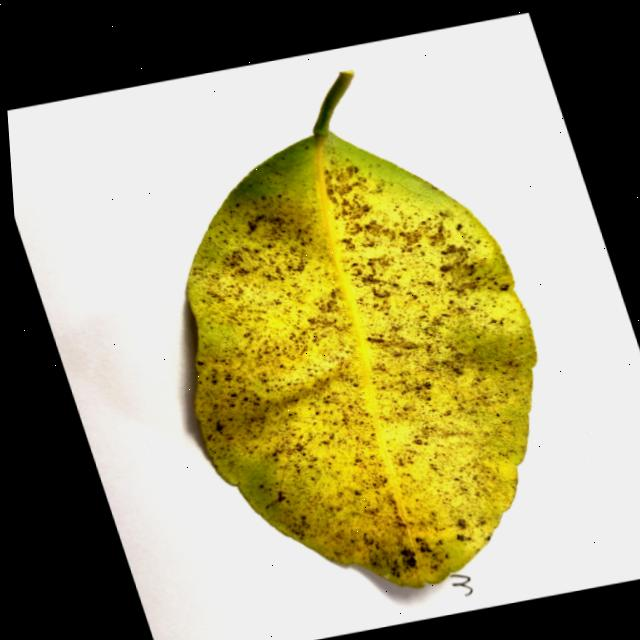melanose: (188, 71, 536, 587)
